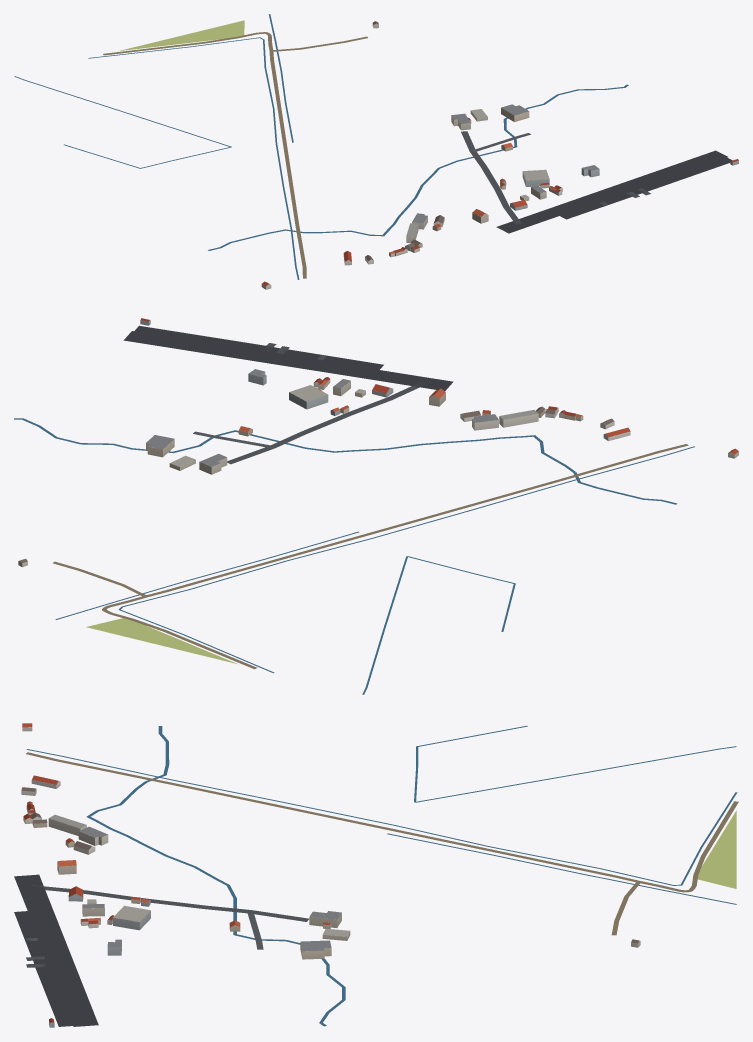
3 views of the same model, one above another, from view 1: azimuth 30°, elevation 25°; view 2: azimuth 150°, elevation 25°; view 3: azimuth 270°, elevation 25° (orthographic). The views are drawn at different scales.
Parts seen in each view (by area): view 1: roads, water, buildings_walls, buildings_roofs, landuse; view 2: roads, water, buildings_walls, buildings_roofs, landuse; view 3: roads, water, buildings_walls, buildings_roofs, landuse.
Boxes of the visible parts, <box> form: roads: <box>103,32,732,278</box>; water: <box>14,14,628,279</box>; buildings_walls: <box>261,23,738,289</box>; buildings_roofs: <box>262,21,738,286</box>; landuse: <box>118,20,244,51</box>; roads: <box>52,325,688,669</box>; water: <box>14,418,694,694</box>; buildings_walls: <box>18,320,738,567</box>; buildings_roofs: <box>20,318,738,563</box>; landuse: <box>86,618,236,663</box>; roads: <box>14,752,738,1026</box>; water: <box>26,725,737,1026</box>; buildings_walls: <box>21,727,640,1027</box>; buildings_roofs: <box>21,723,639,1022</box>; landuse: <box>697,810,736,888</box>.
Size of the model in its own units: 503 by 8.84 by 511.
